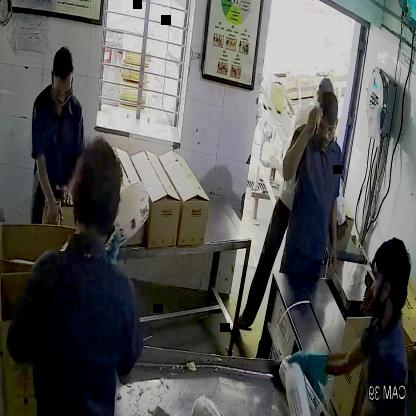goggles: (314, 118, 338, 135)
